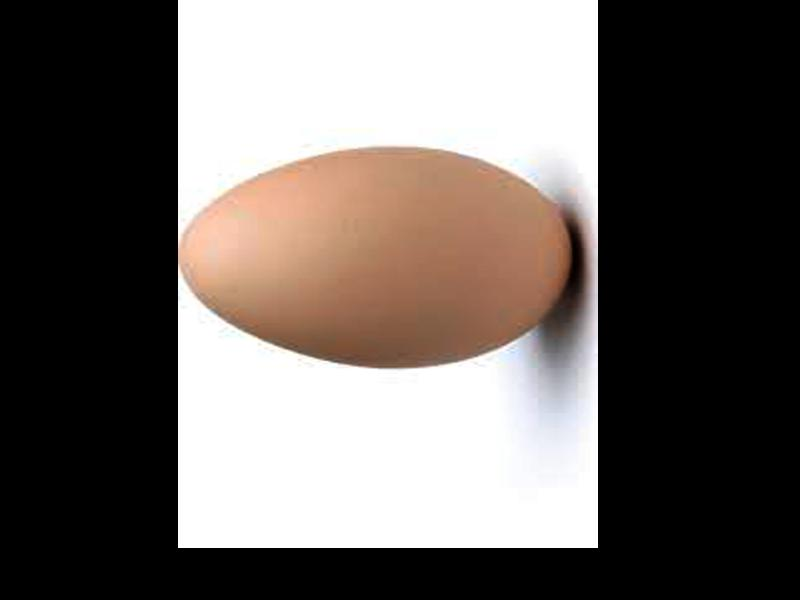Eggs: (180, 146, 578, 367)
